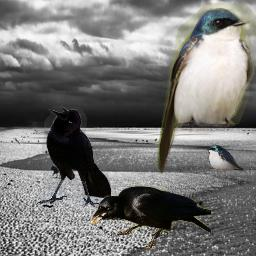Crow: (90, 185, 211, 249), (36, 106, 111, 207)
Swallow: (157, 2, 256, 174), (206, 144, 247, 172)
